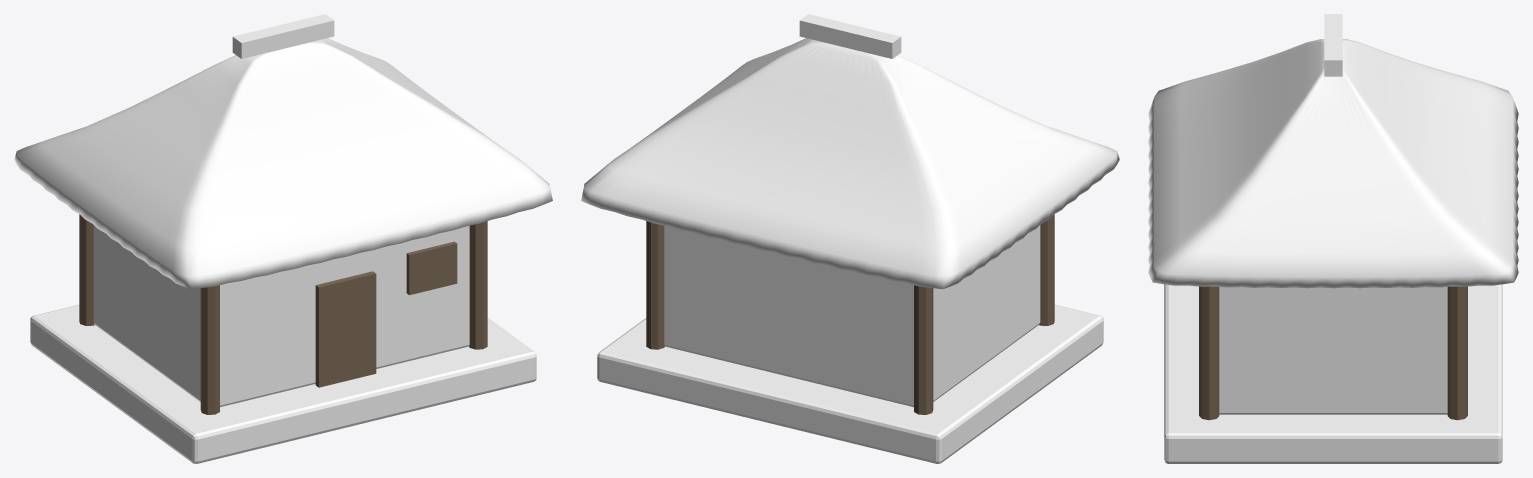
The model's file is v_house.glb.
3 renders of one model, left to right at view 1: azimuth 30°, elevation 25°; view 2: azimuth 150°, elevation 25°; view 3: azimuth 270°, elevation 25°, orthographic. The views are drawn at different scales.
Parts seen in each view (by area): view 1: roof, Cube.001, Cube, Cube.002, Cylinder, Cube.004, Cylinder.002, Cube.003, Cylinder.001; view 2: roof, Cube.001, Cube, Cylinder.001, Cube.004, Cylinder.003, Cylinder; view 3: roof, Cube.001, Cube, Cylinder.002, Cylinder.003, Cube.004.
Boxes of the visible parts, x1=… form: roof: x1=14, y1=38, x2=552, y2=289; Cube.001: x1=93, y1=225, x2=469, y2=407; Cube: x1=30, y1=305, x2=536, y2=463; Cube.002: x1=315, y1=271, x2=376, y2=387; Cylinder: x1=200, y1=285, x2=219, y2=414; Cube.004: x1=232, y1=14, x2=334, y2=58; Cylinder.002: x1=469, y1=221, x2=487, y2=349; Cube.003: x1=406, y1=241, x2=457, y2=295; Cylinder.001: x1=79, y1=214, x2=94, y2=325; roof: x1=581, y1=38, x2=1119, y2=289; Cube.001: x1=664, y1=225, x2=1040, y2=407; Cube: x1=597, y1=305, x2=1103, y2=463; Cylinder.001: x1=914, y1=285, x2=933, y2=414; Cube.004: x1=799, y1=14, x2=901, y2=58; Cylinder.003: x1=646, y1=221, x2=664, y2=349; Cylinder: x1=1039, y1=214, x2=1054, y2=325; roof: x1=1148, y1=39, x2=1518, y2=288; Cube.001: x1=1219, y1=287, x2=1447, y2=414; Cube: x1=1164, y1=284, x2=1502, y2=463; Cylinder.002: x1=1199, y1=286, x2=1219, y2=420; Cylinder.003: x1=1447, y1=286, x2=1467, y2=420; Cube.004: x1=1324, y1=14, x2=1342, y2=76.
Size of the model in its own units: 3.88 by 3.35 by 3.28.
